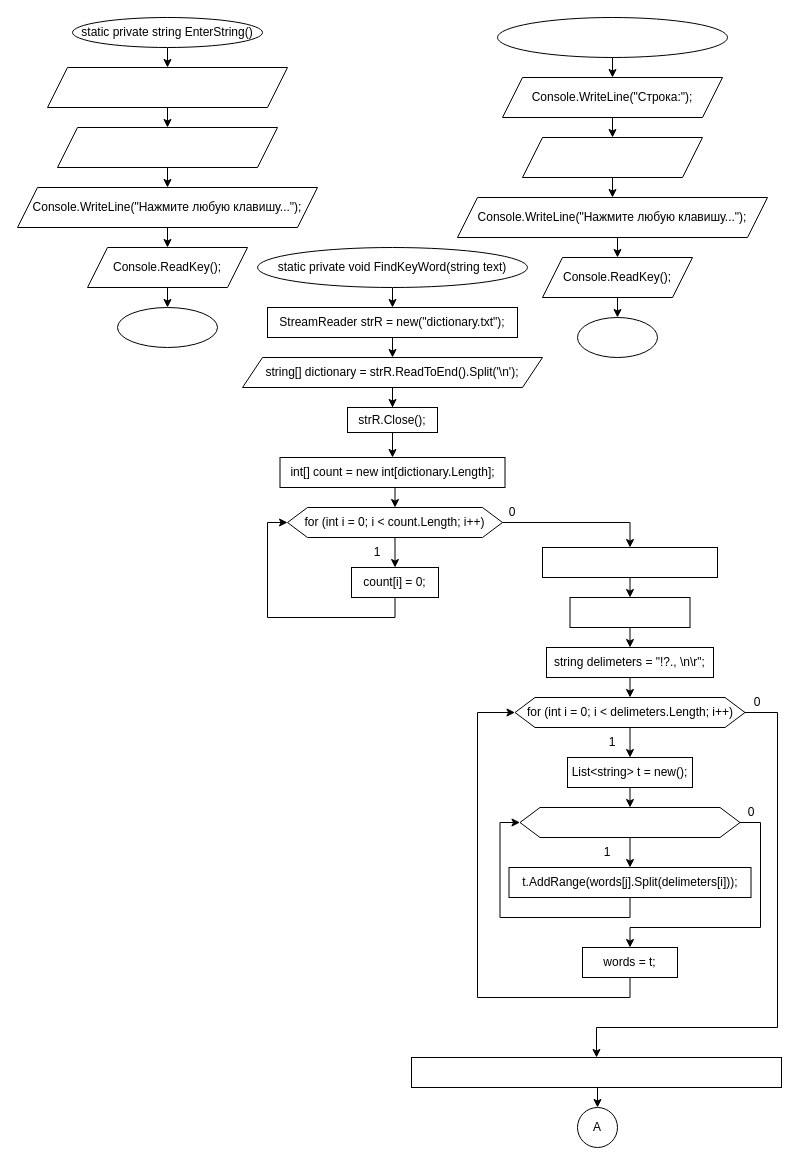
This 805x1165 diagram has some shape labels left out. Each missing label, with the centre of its shape:
Console.WriteLine("Введите строку");: (x=167, y=87)
Console.WriteLine(text);: (x=612, y=157)
for (int j = 0; j < words.Count; j++): (x=629, y=822)
List<string> words = new();: (x=630, y=562)
return text;: (x=167, y=327)
static private void Print(string text): (x=612, y=37)
string text = Console.ReadLine();: (x=167, y=147)
words = words.Where(x => x != "").Where(x => x != "\r").ToList();: (x=596, y=1072)
words.Add(text);: (x=629, y=612)
